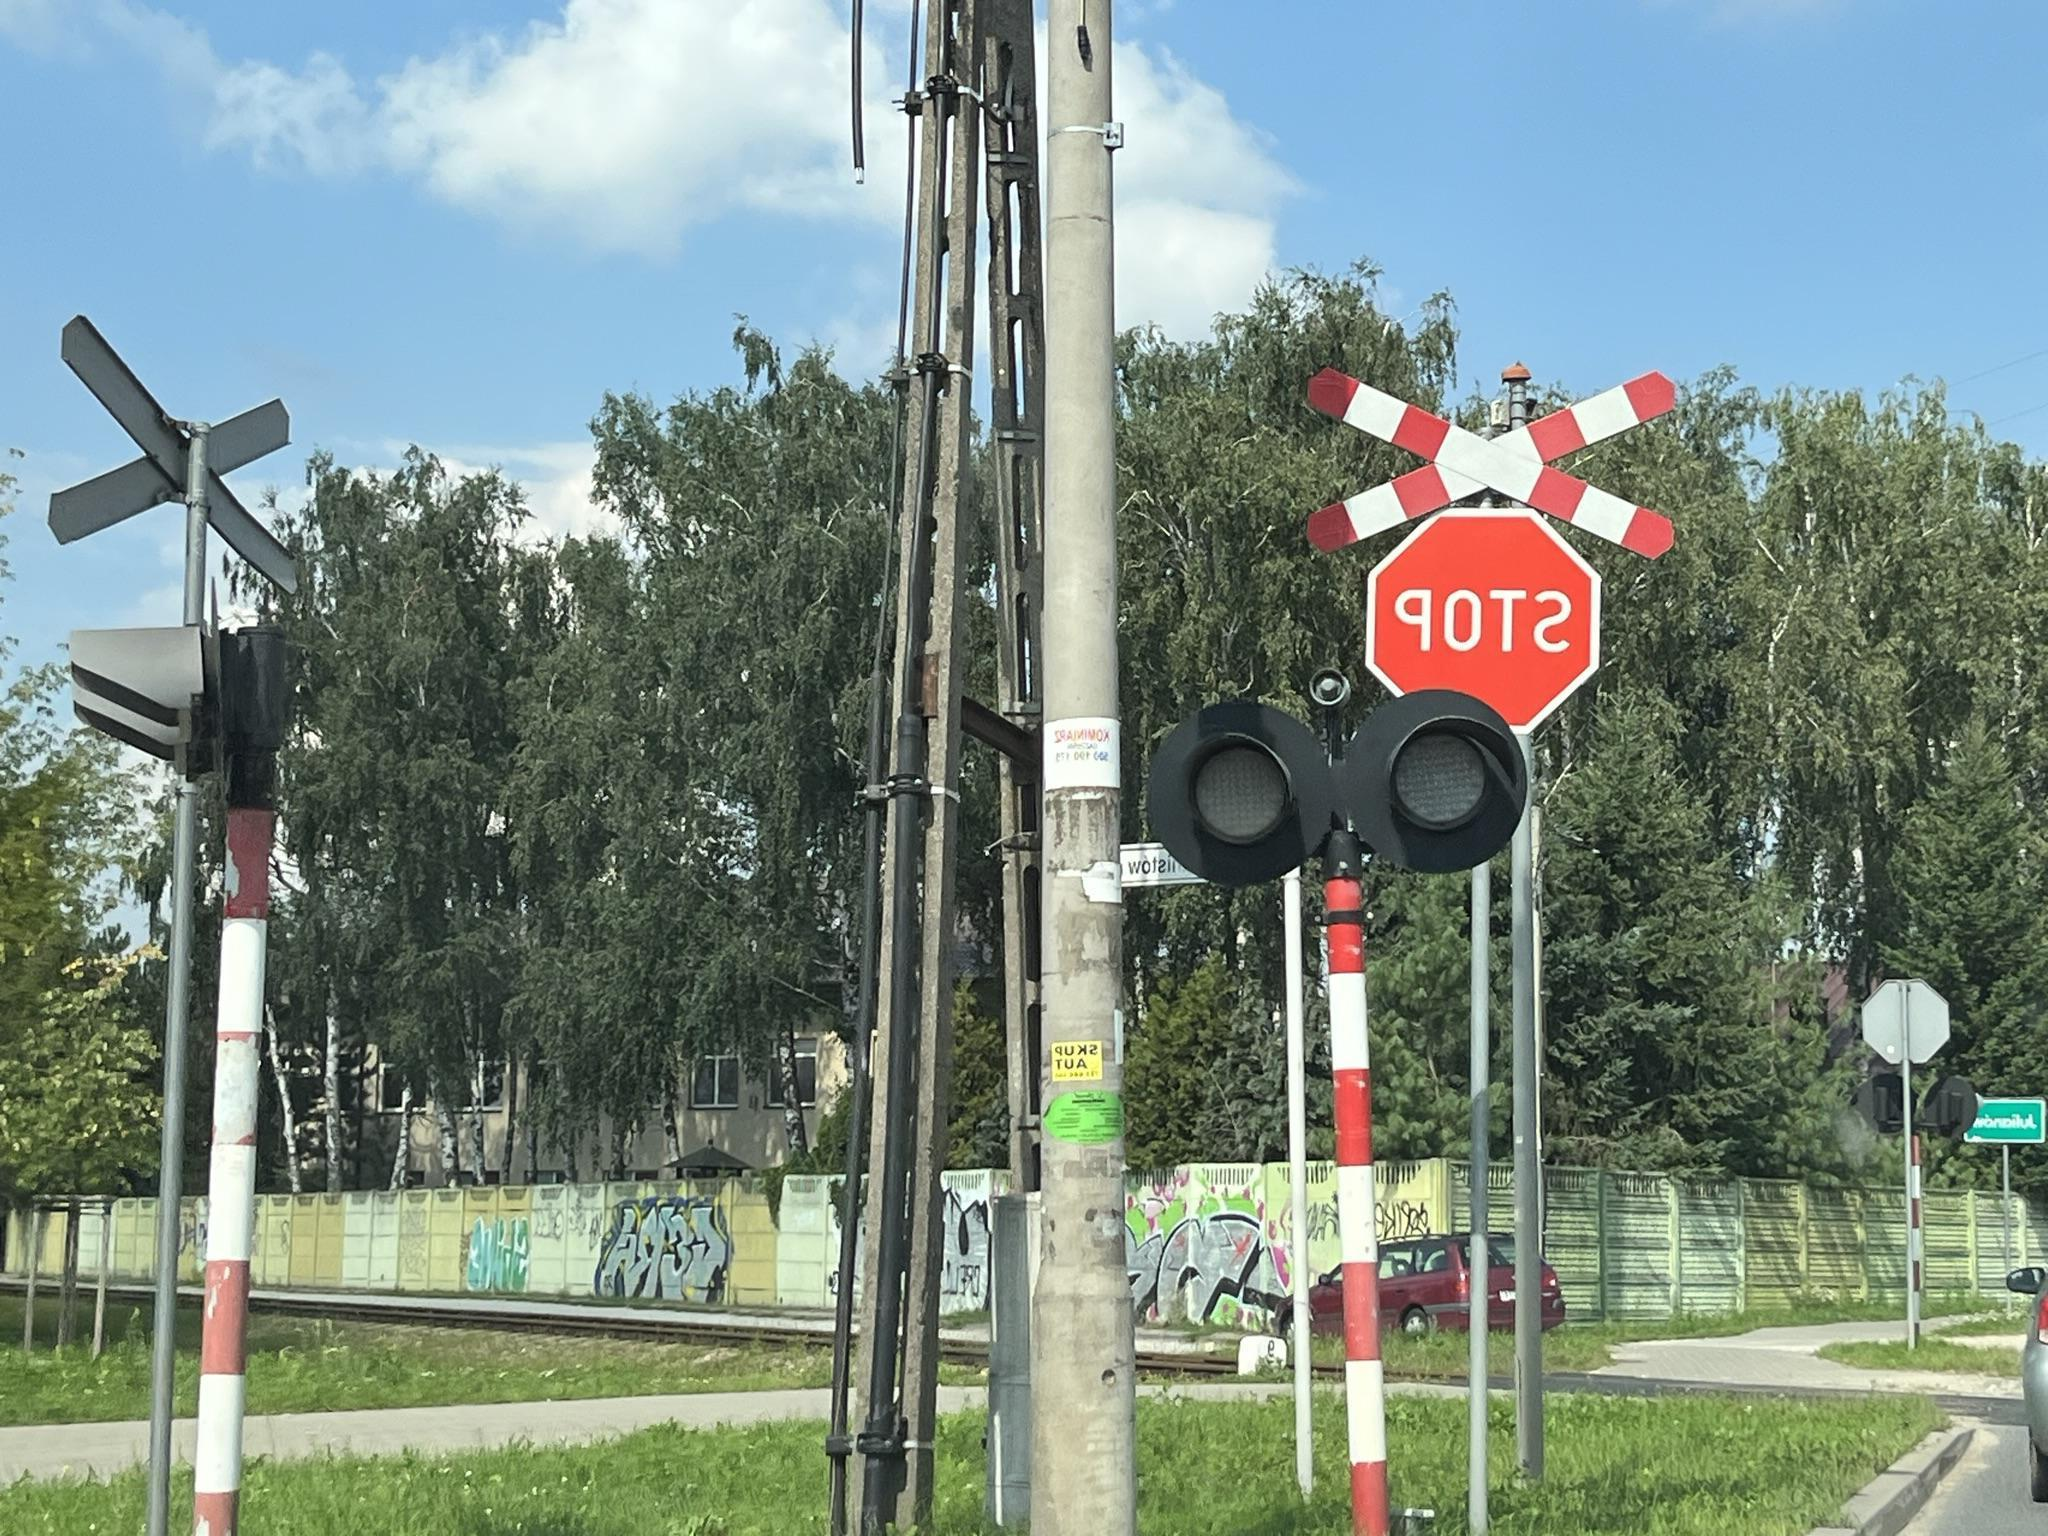direction-city: (1964, 1099, 2045, 1144)
prohibitory: (1363, 503, 1600, 733)
